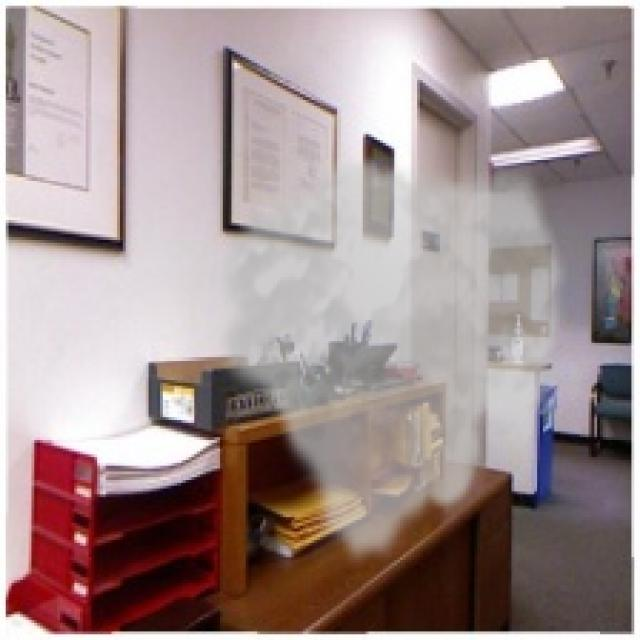smoke: (208, 152, 572, 568)
